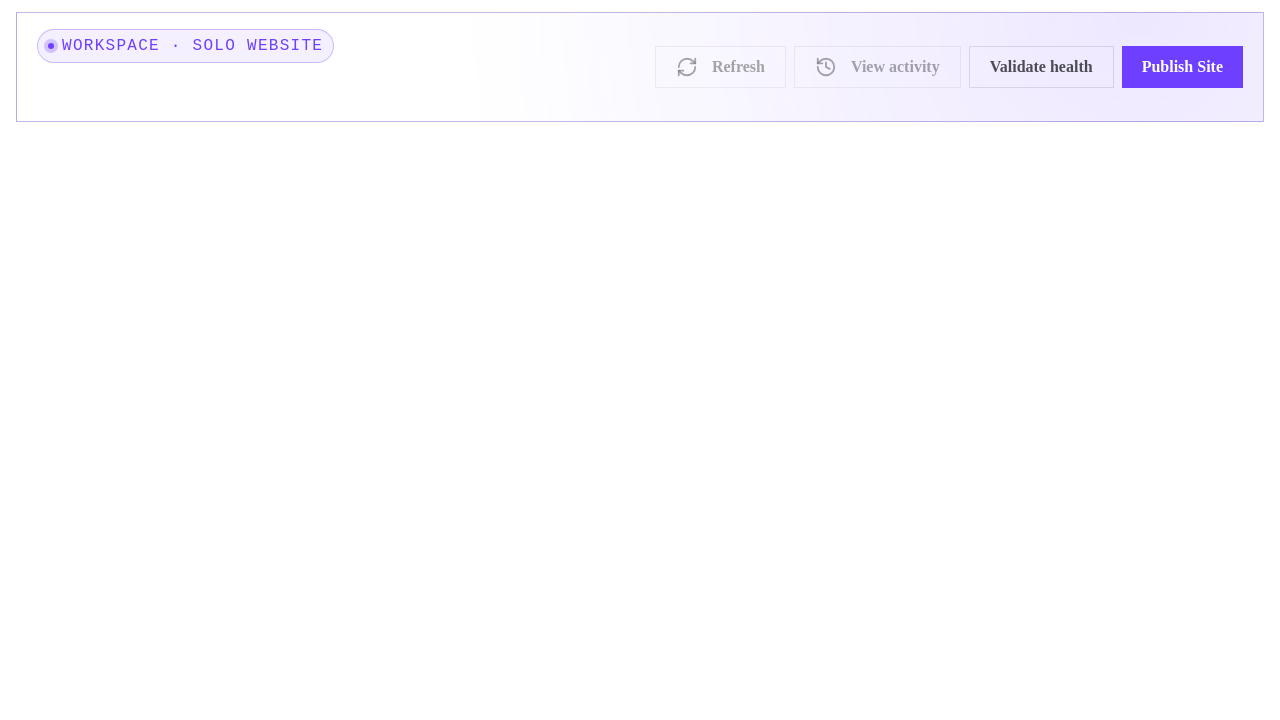
Test: WorkspaceHero › clicking 'Publish Site' opens the confirmation dialog with heading 'Republish site'
Click the button "Publish Site" at [1182, 67], box [1122,46,1243,88]
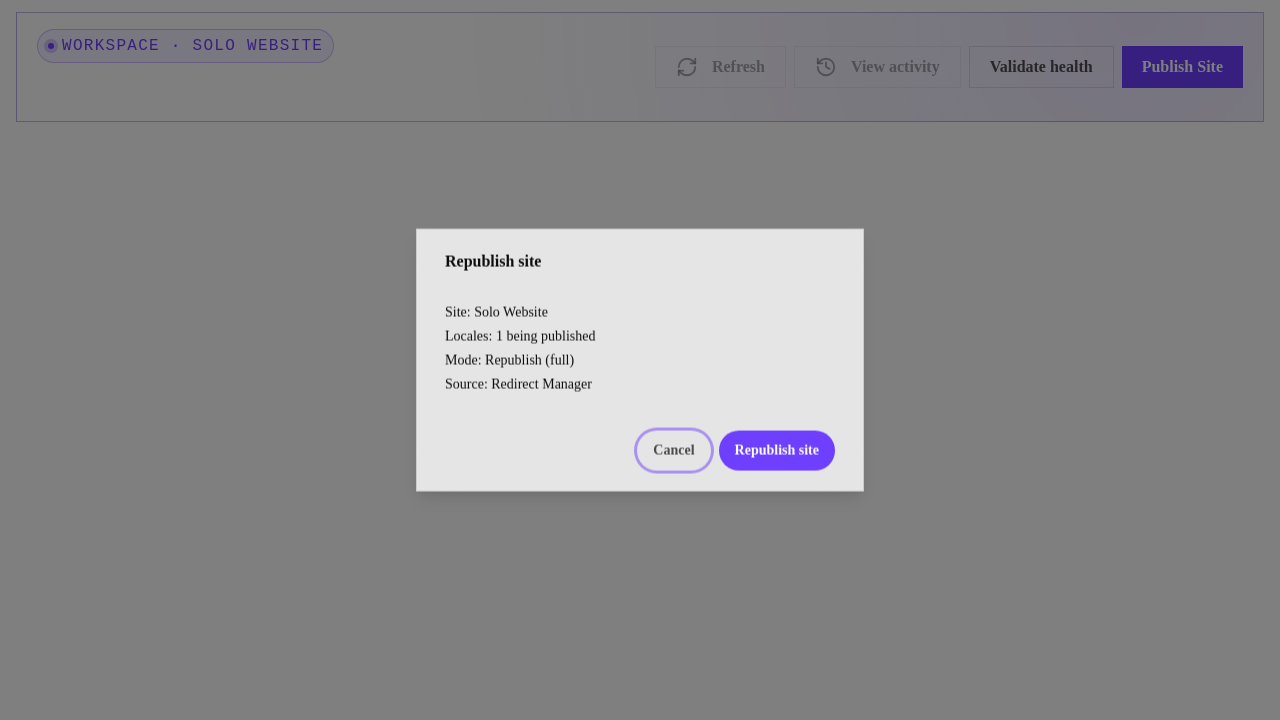
Expected: the dialog is shown, [416,229,864,492]
Expected: the heading "Republish site" is shown, [445,253,542,270]
